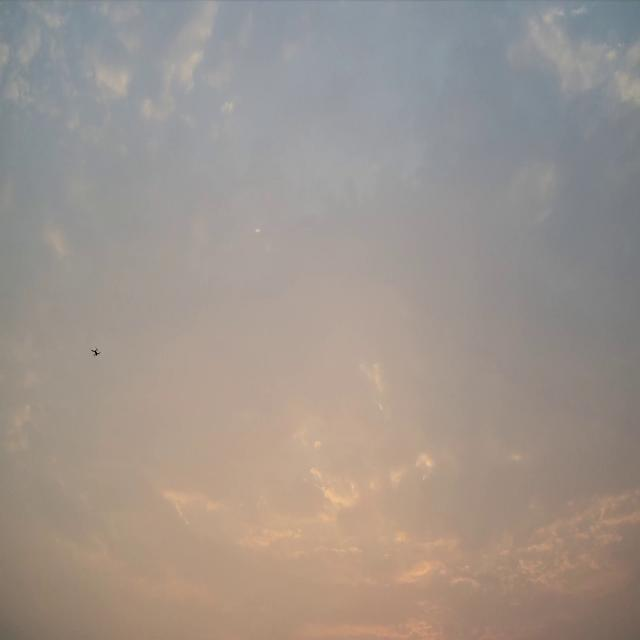UAV: (90, 346, 100, 357)
